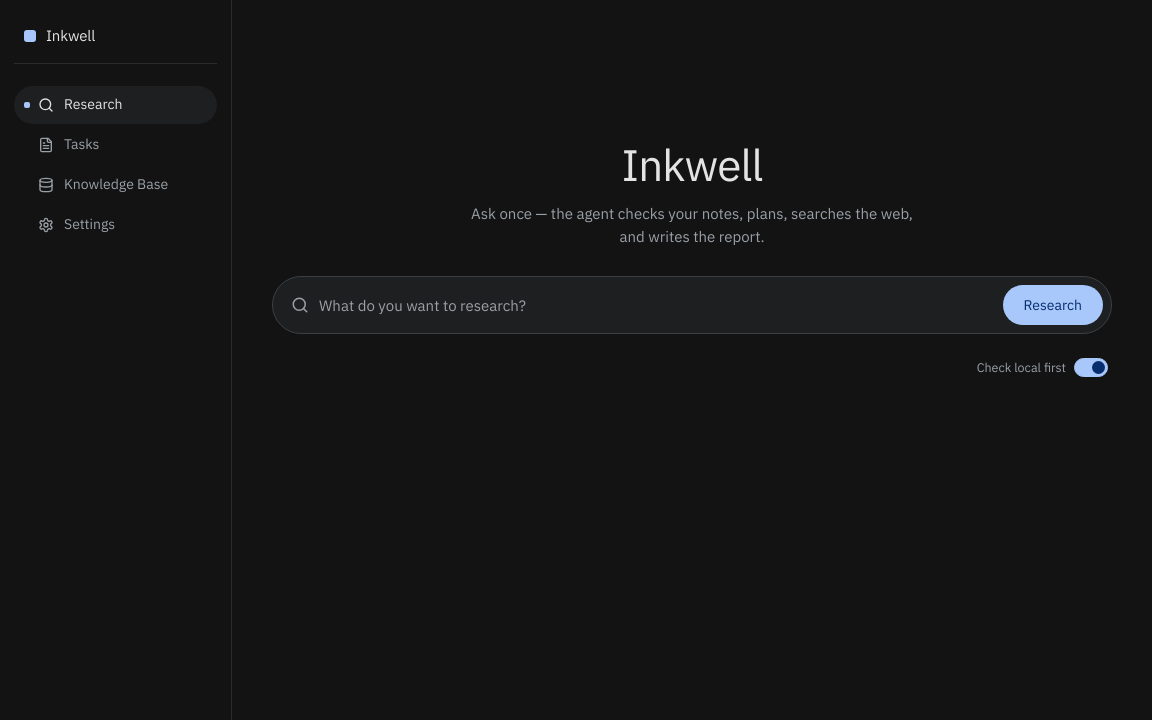
Test: App › sends local_context=false when the notes toggle is unchecked (R-264)
This screenshot has width=1152, height=720.
Click the checkbox labelled "Check local first" at (1042, 368), box [977, 358, 1108, 378]
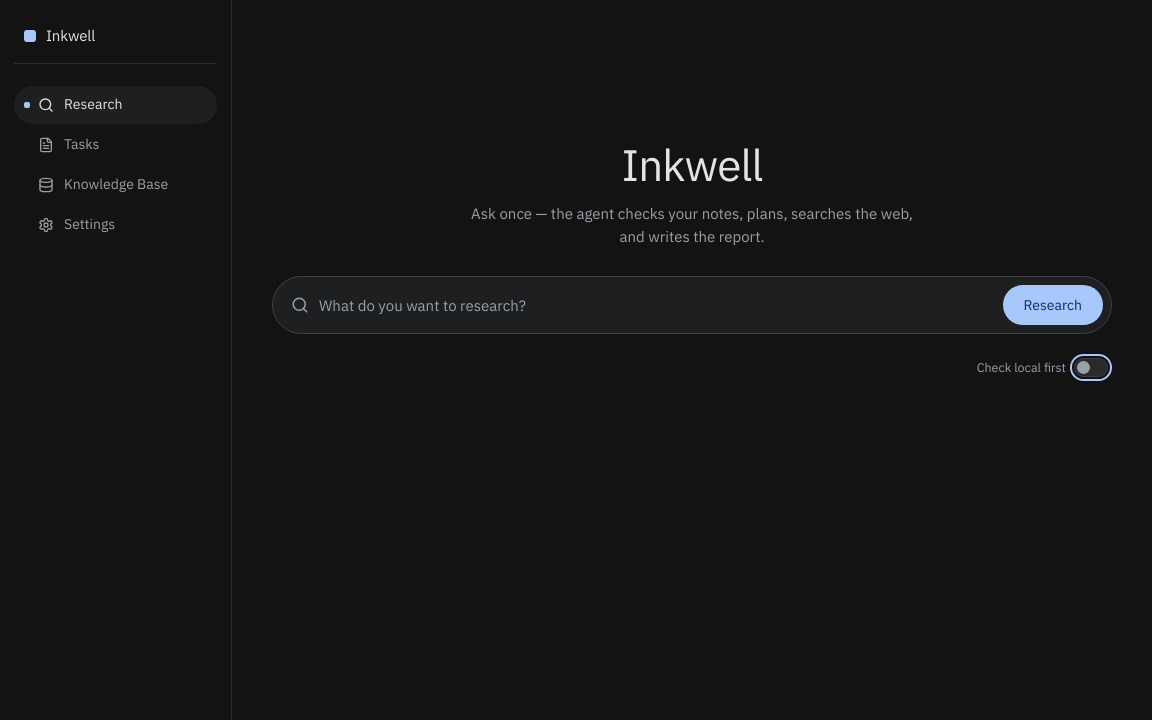
Type "web question" into the field named "Research question" at (656, 305), box [319, 285, 992, 325]
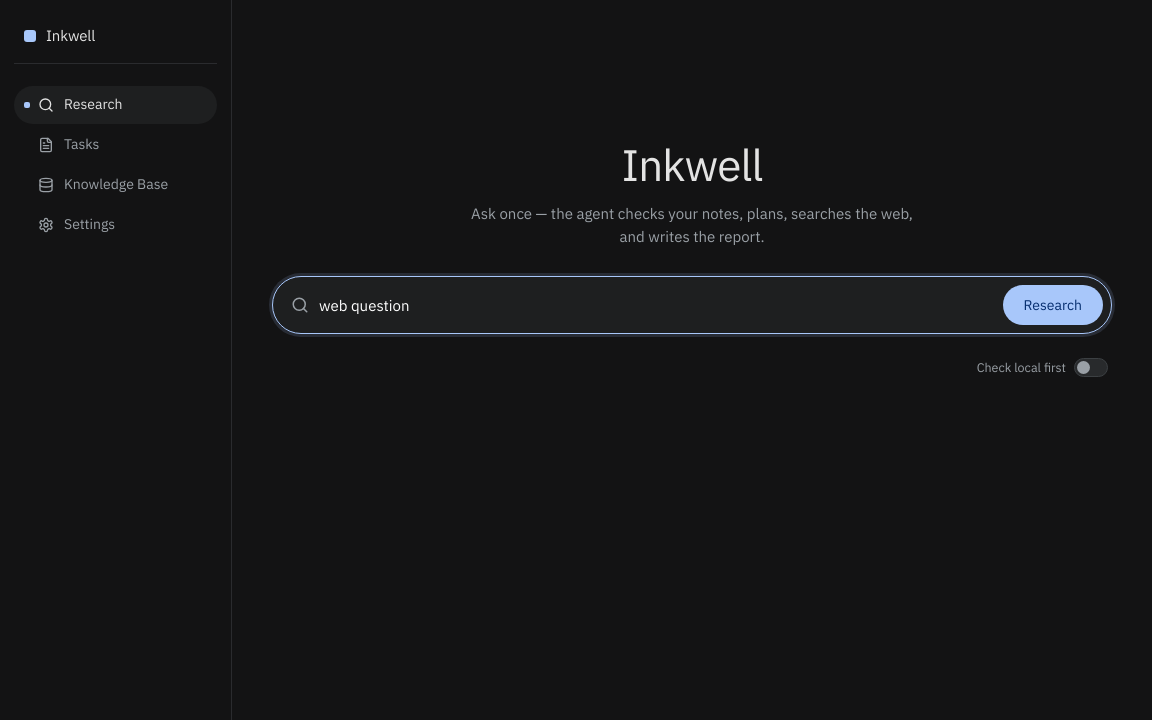
Click the button "Research" at (1053, 305), box [1002, 285, 1103, 325]
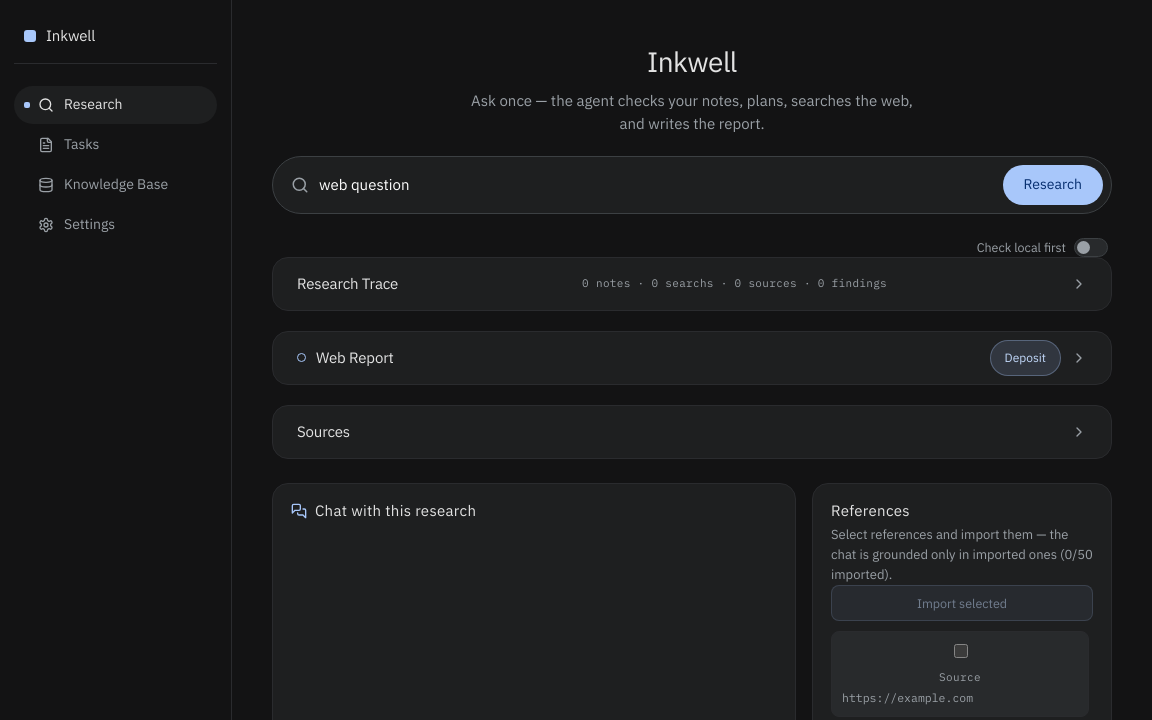
Click the button "Web Report Deposit" at (355, 357), box [273, 332, 1111, 384]
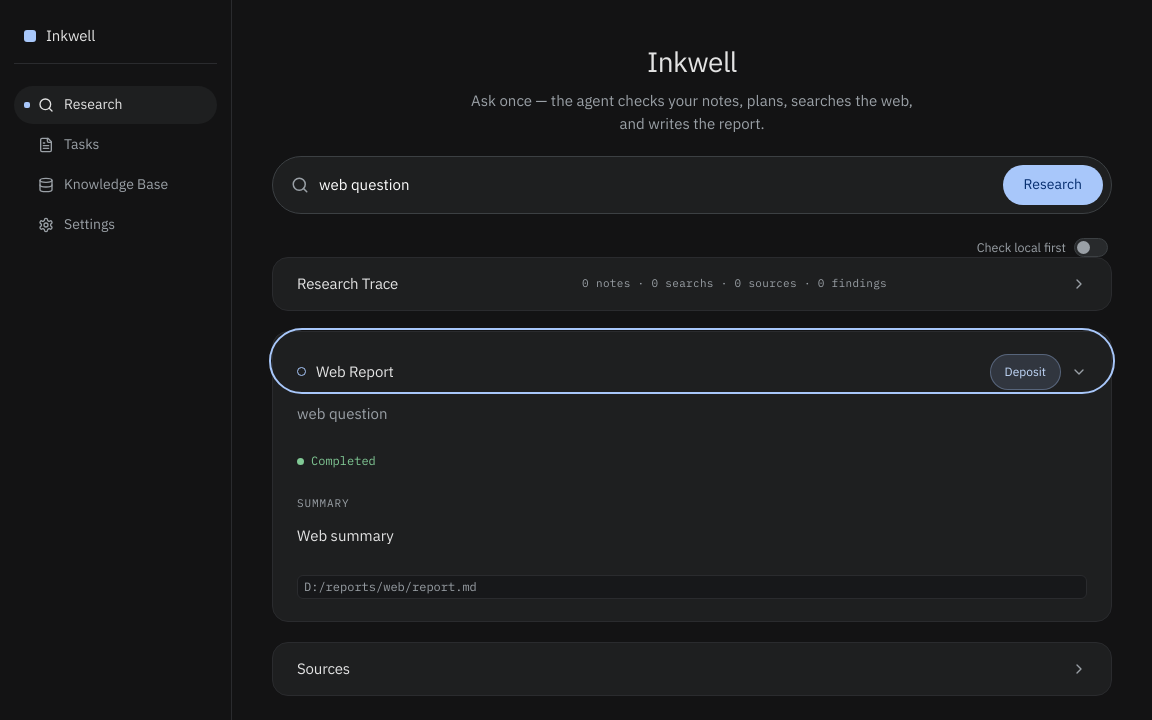
Expected: the text "Web summary" is shown, [297, 526, 394, 546]
